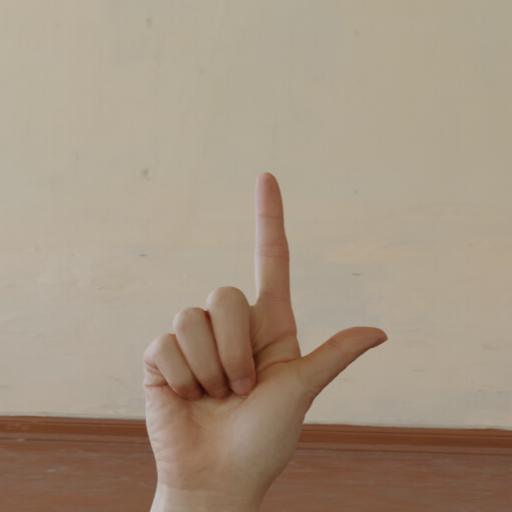L: (128, 166, 394, 488)
